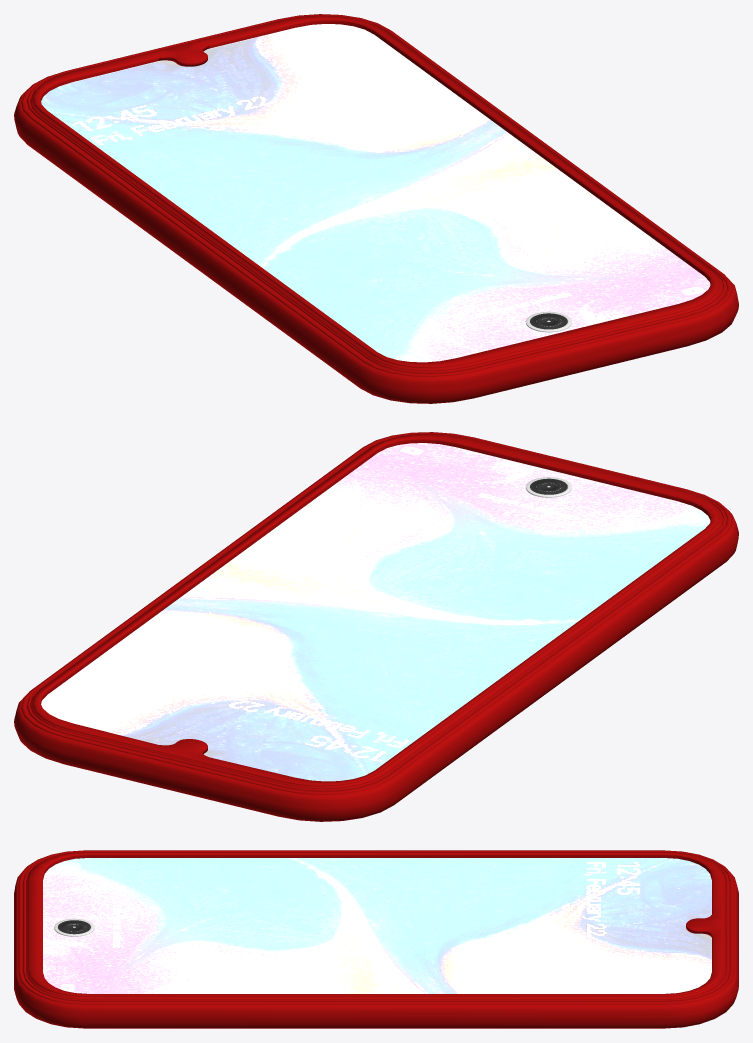
Rendered from phoneRed.glb.
3 views of the same model, one above another, from view 1: azimuth 30°, elevation 25°; view 2: azimuth 150°, elevation 25°; view 3: azimuth 270°, elevation 25° (orthographic). The views are drawn at different scales.
Parts seen in each view (by area): view 1: Emission, Cube, Cylinder001; view 2: Emission, Cube, Cylinder001; view 3: Emission, Cube, Cylinder001.
Boxes of the visible parts, x1=… form: Emission: x1=41, y1=24, x2=710, y2=362; Cube: x1=14, y1=14, x2=738, y2=403; Cylinder001: x1=525, y1=311, x2=571, y2=332; Emission: x1=41, y1=443, x2=710, y2=781; Cube: x1=14, y1=432, x2=738, y2=821; Cylinder001: x1=525, y1=477, x2=571, y2=497; Emission: x1=43, y1=858, x2=711, y2=993; Cube: x1=14, y1=850, x2=738, y2=1028; Cylinder001: x1=54, y1=918, x2=94, y2=936.
Size of the model in its own units: 0.999 by 0.0837 by 1.93.
